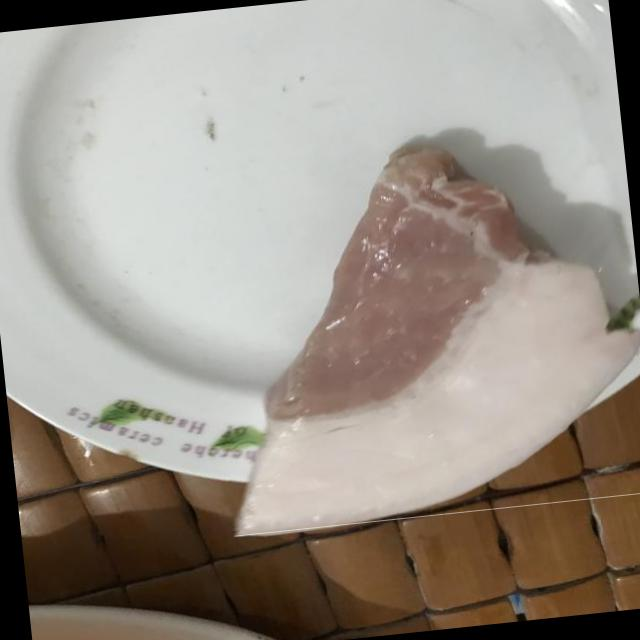chicken: (195, 120, 640, 536)
